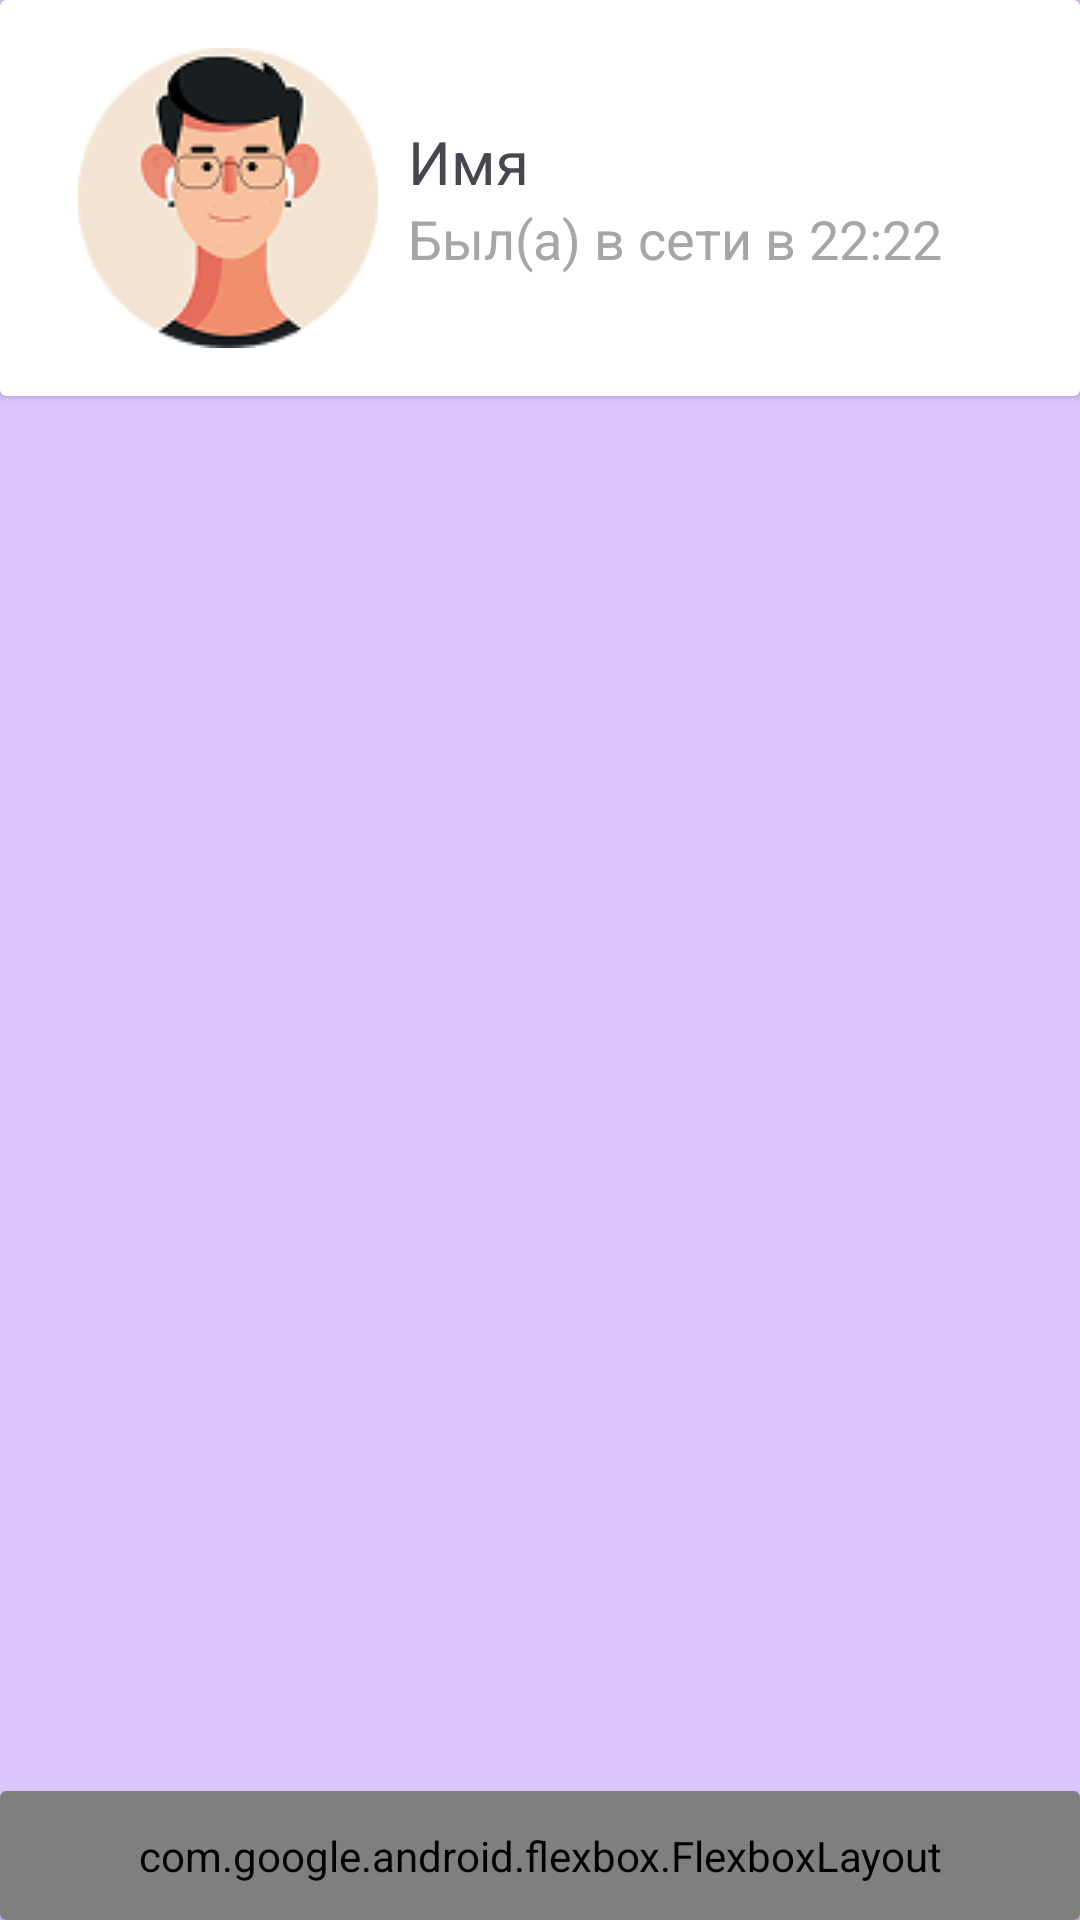

Icons on this 1080×1920 Android screen, each with its box as [x1,y1,x2,y2]:
profile: [78,48,378,348]
